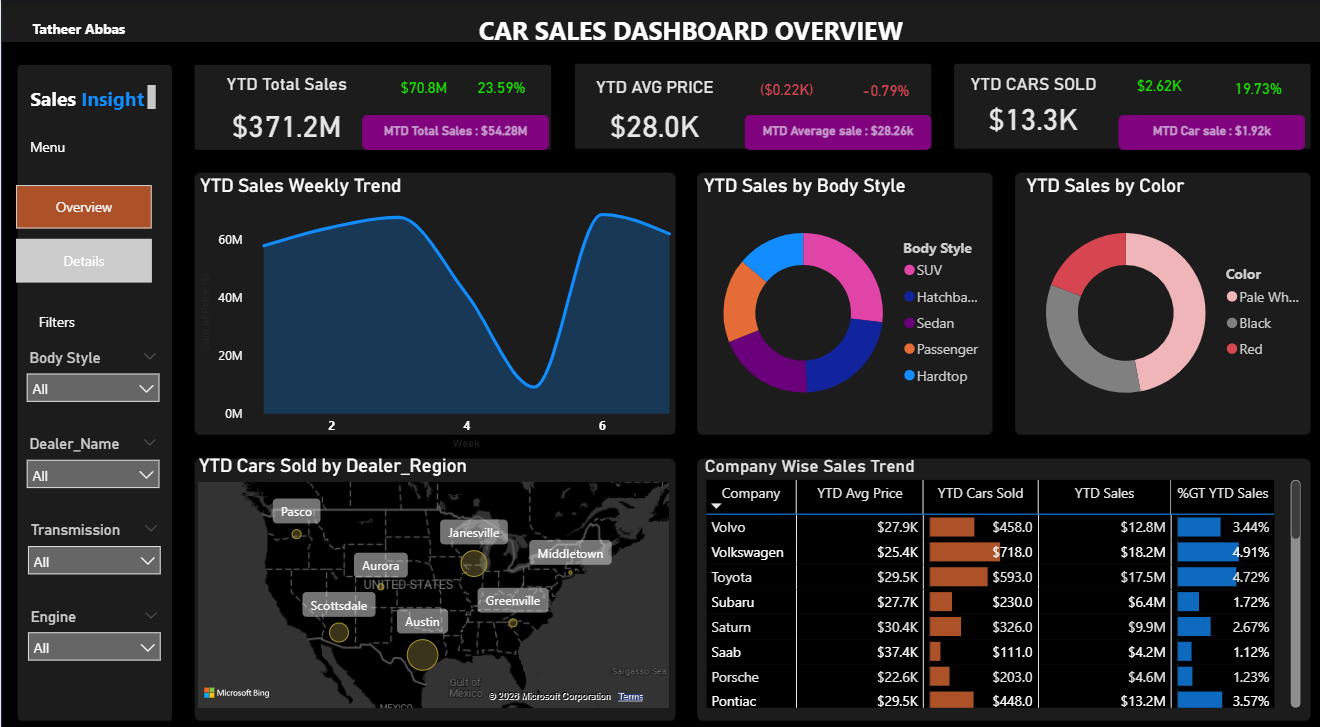

This screenshot's page, from the dashboard's own definition file:
{"tool":"powerbi","page":{"name":"Overview","canvas":[1280,720],"ordinal":0},"visuals":[{"type":"card","title":"YTD Total Sales","fields":{"Values":["car_data.YTD Sales"]},"box":[189.4,71.4,172.9,79.6],"z":0},{"type":"card","title":"YTD AVG PRICE","fields":{"Values":["car_data.YTD Avg Price"]},"box":[544.4,73.8,174,75.1],"z":1000},{"type":"card","title":"YTD CARS SOLD","fields":{"Values":["car_data.YTD Cars Sold"]},"box":[916.1,71.3,161.4,66.3],"z":2000},{"type":"card","fields":{"Values":["car_data.Sales Difference"]},"box":[361.7,67.6,92.6,37.5],"z":3000},{"type":"card","fields":{"Values":["car_data.YOY Growth Sales"]},"box":[436.8,67.6,92.6,37.5],"z":4000},{"type":"card","fields":{"Values":["car_data.MTD KPI"]},"box":[349.2,111.4,180.2,33.8],"z":5000},{"type":"card","fields":{"Values":["car_data.Avg Diff"]},"box":[718.3,71.3,81.3,33.8],"z":6000},{"type":"card","fields":{"Values":["car_data.YOY Aerage diff"]},"box":[808.4,73.8,91.4,31.3],"z":7000},{"type":"card","fields":{"Values":["car_data.Cars Difference"]},"box":[1077.5,67.6,81.3,33.8],"z":8000},{"type":"card","fields":{"Values":["car_data.YOY Cars growth"]},"box":[1167.6,71.3,91.4,31.3],"z":9000},{"type":"card","fields":{"Values":["car_data.MTD average KPI"]},"box":[718.3,111.4,180.2,33.8],"z":10000},{"type":"card","fields":{"Values":["car_data.MTD Car KPI"]},"box":[1078.8,111.4,180.2,33.8],"z":11000},{"type":"stackedAreaChart","title":"YTD Sales Weekly Trend","fields":{"Category":["Calendar Table.Week"],"Y":["Sum(car_data.Price ($))"]},"box":[186.6,168.8,473.4,270.3],"z":12000},{"type":"donutChart","fields":{"Category":["car_data.Body Style"],"Y":["car_data.YTD Sales"]},"box":[673.8,168.8,285.4,245.6],"z":13000},{"type":"donutChart","fields":{"Y":["car_data.YTD Sales"],"Category":["car_data.Color"]},"box":[984.7,169.1,285.6,245.8],"z":14000},{"type":"map","fields":{"Size":["car_data.YTD Cars Sold"],"Category":["car_data.Dealer_Region"]},"box":[186.4,439.6,463.7,248.9],"z":15000},{"type":"tableEx","title":"Company Wise Sales Trend","fields":{"Values":["car_data.Company","car_data.YTD Avg Price","car_data.YTD Cars Sold","car_data.YTD Sales1","car_data.YTD Sales"]},"box":[674.3,439.6,584.7,248.9],"z":16000},{"type":"textbox","box":[456,8.4,436.7,48.3],"z":17000},{"type":"slicer","fields":{"Values":["car_data.Body Style"]},"box":[14.5,331.8,148.4,83.2],"z":18000},{"type":"slicer","fields":{"Values":["car_data.Dealer_Name"]},"box":[14.5,415,148.4,83.2],"z":18001},{"type":"slicer","fields":{"Values":["car_data.Transmission"]},"box":[15.7,498.3,148.4,83.2],"z":18002},{"type":"slicer","fields":{"Values":["car_data.Engine"]},"box":[15.7,581.5,148.4,83.2],"z":18003},{"type":"textbox","box":[22.9,127.9,83.2,32.6],"z":18004},{"type":"textbox","box":[22.9,77.2,131.5,33.8],"z":18005},{"type":"textbox","box":[31.4,296.8,48.3,33.8],"z":18006},{"type":"pageNavigator","box":[14.5,178.6,131.5,94.1],"z":18007}]}

Visuals, with their boxes on the page's 1280x720 design canvas (x1, y1, x2, y2). These are canvas units, not pixel positions in the 1320x727 screenshot, which may show the page scaled, cropped or inside an application window:
"YTD Total Sales" card: x1=189, y1=71, x2=362, y2=151
"YTD AVG PRICE" card: x1=544, y1=74, x2=718, y2=149
"YTD CARS SOLD" card: x1=916, y1=71, x2=1078, y2=138
card - car_data.Sales Difference: x1=362, y1=68, x2=454, y2=105
card - car_data.YOY Growth Sales: x1=437, y1=68, x2=529, y2=105
card - car_data.MTD KPI: x1=349, y1=111, x2=529, y2=145
card - car_data.Avg Diff: x1=718, y1=71, x2=800, y2=105
card - car_data.YOY Aerage diff: x1=808, y1=74, x2=900, y2=105
card - car_data.Cars Difference: x1=1078, y1=68, x2=1159, y2=101
card - car_data.YOY Cars growth: x1=1168, y1=71, x2=1259, y2=103
card - car_data.MTD average KPI: x1=718, y1=111, x2=898, y2=145
card - car_data.MTD Car KPI: x1=1079, y1=111, x2=1259, y2=145
"YTD Sales Weekly Trend" stackedAreaChart: x1=187, y1=169, x2=660, y2=439
donutChart - car_data.Body Style x car_data.YTD Sales: x1=674, y1=169, x2=959, y2=414
donutChart - car_data.YTD Sales x car_data.Color: x1=985, y1=169, x2=1270, y2=415
map - car_data.YTD Cars Sold x car_data.Dealer_Region: x1=186, y1=440, x2=650, y2=688
"Company Wise Sales Trend" tableEx: x1=674, y1=440, x2=1259, y2=688
textbox: x1=456, y1=8, x2=893, y2=57
slicer - car_data.Body Style: x1=14, y1=332, x2=163, y2=415
slicer - car_data.Dealer_Name: x1=14, y1=415, x2=163, y2=498
slicer - car_data.Transmission: x1=16, y1=498, x2=164, y2=582
slicer - car_data.Engine: x1=16, y1=582, x2=164, y2=665
textbox: x1=23, y1=128, x2=106, y2=160
textbox: x1=23, y1=77, x2=154, y2=111
textbox: x1=31, y1=297, x2=80, y2=331
pageNavigator: x1=14, y1=179, x2=146, y2=273
